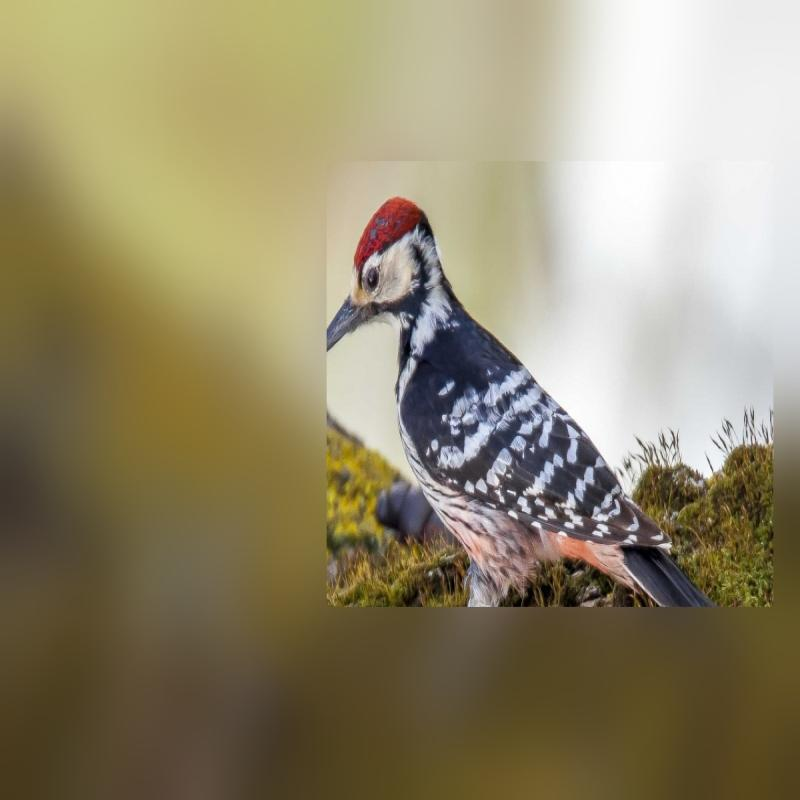white-backed woodpecker: (324, 188, 714, 608)
